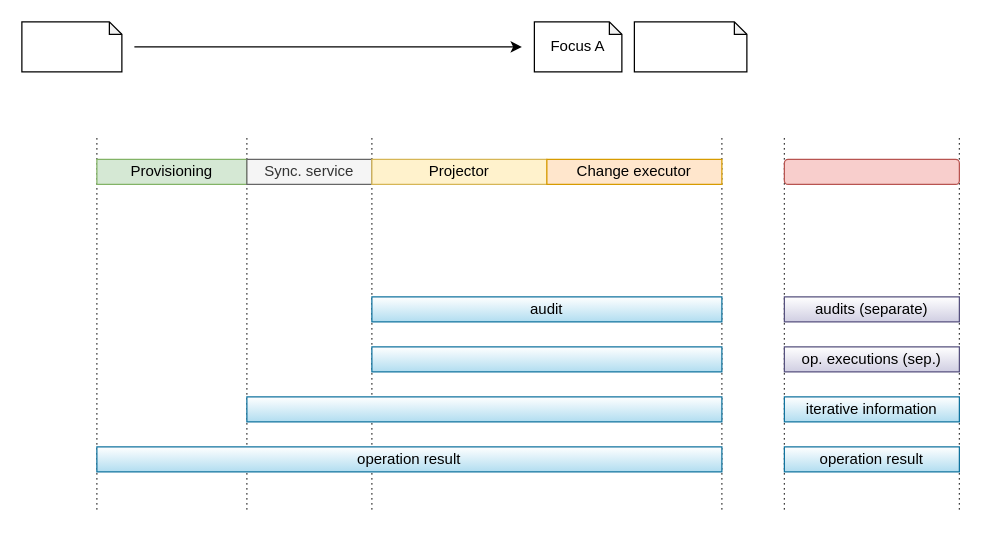
This 983x533 diagram has some shape labels left out. Each missing label, with the centre of its shape:
"Embedded clockwork" goes at [871,171].
"iterative task information" goes at [484,409].
"operation execution" goes at [546,359].
"Resource object A 0" goes at [71,46].
"Resource objects A 0 ... A n" goes at [690,46].
